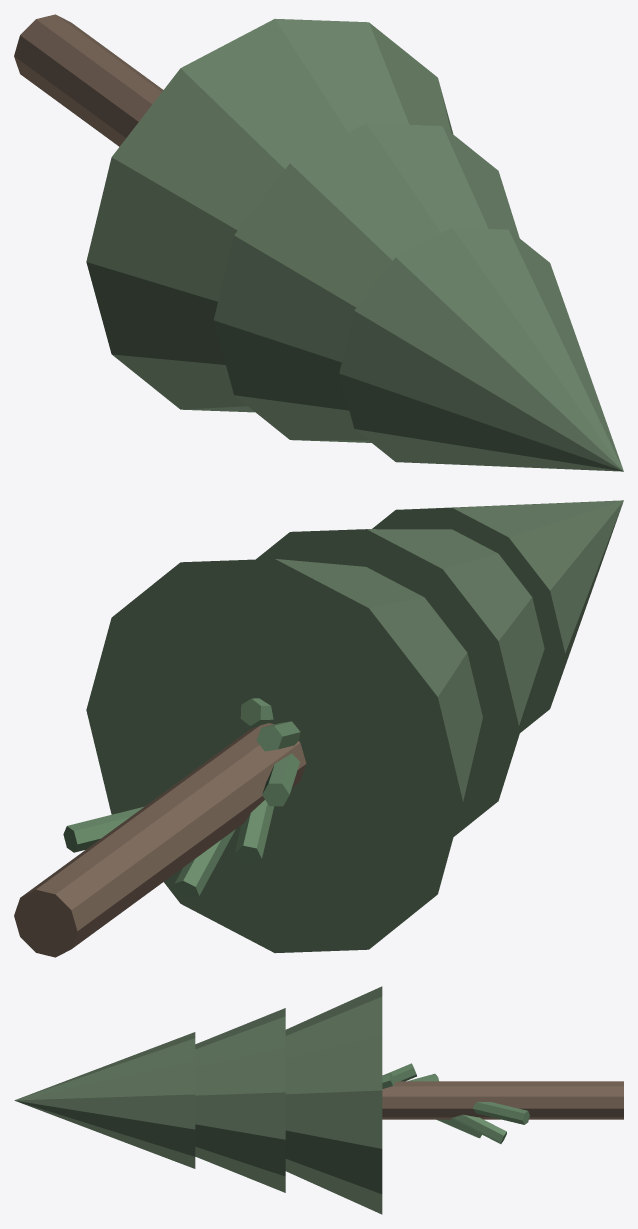
The model's file is SM_PineTree.glb.
3 views of the same model, one above another, from view 1: azimuth 30°, elevation 25°; view 2: azimuth 150°, elevation 25°; view 3: azimuth 270°, elevation 25° (orthographic). The views are drawn at different scales.
Parts seen in each view (by area): view 1: SM_PineTree_002, SM_PineTree_000, SM_PineTree_001, SM_PineTree_003; view 2: SM_PineTree_002, SM_PineTree_001, SM_PineTree_003, SM_PineTree_000, SM_PineTree_013, SM_PineTree_015, SM_PineTree_004, SM_PineTree_011, SM_PineTree_009, SM_PineTree_007; view 3: SM_PineTree_002, SM_PineTree_001, SM_PineTree_000, SM_PineTree_003, SM_PineTree_004, SM_PineTree_017, SM_PineTree_009.
Boxes of the visible parts, left/top/right/bottom form: SM_PineTree_002: left=86, top=18, right=453, bottom=412; SM_PineTree_000: left=339, top=227, right=623, bottom=471; SM_PineTree_001: left=213, top=123, right=519, bottom=442; SM_PineTree_003: left=14, top=14, right=163, bottom=146; SM_PineTree_002: left=86, top=559, right=482, bottom=953; SM_PineTree_001: left=256, top=529, right=544, bottom=836; SM_PineTree_003: left=14, top=723, right=306, bottom=957; SM_PineTree_000: left=372, top=500, right=623, bottom=732; SM_PineTree_013: left=235, top=800, right=273, bottom=866; SM_PineTree_015: left=174, top=829, right=235, bottom=898; SM_PineTree_004: left=63, top=807, right=143, bottom=852; SM_PineTree_011: left=262, top=753, right=299, bottom=806; SM_PineTree_009: left=256, top=721, right=300, bottom=751; SM_PineTree_007: left=240, top=698, right=273, bottom=726; SM_PineTree_002: left=285, top=986, right=382, bottom=1214; SM_PineTree_001: left=195, top=1008, right=285, bottom=1192; SM_PineTree_000: left=14, top=1032, right=195, bottom=1168; SM_PineTree_003: left=382, top=1081, right=623, bottom=1119; SM_PineTree_004: left=472, top=1102, right=529, bottom=1124; SM_PineTree_017: left=451, top=1114, right=506, bottom=1143; SM_PineTree_009: left=385, top=1063, right=416, bottom=1081.
Size of the model in its own units: 1.9 by 1.9 by 5.05.
